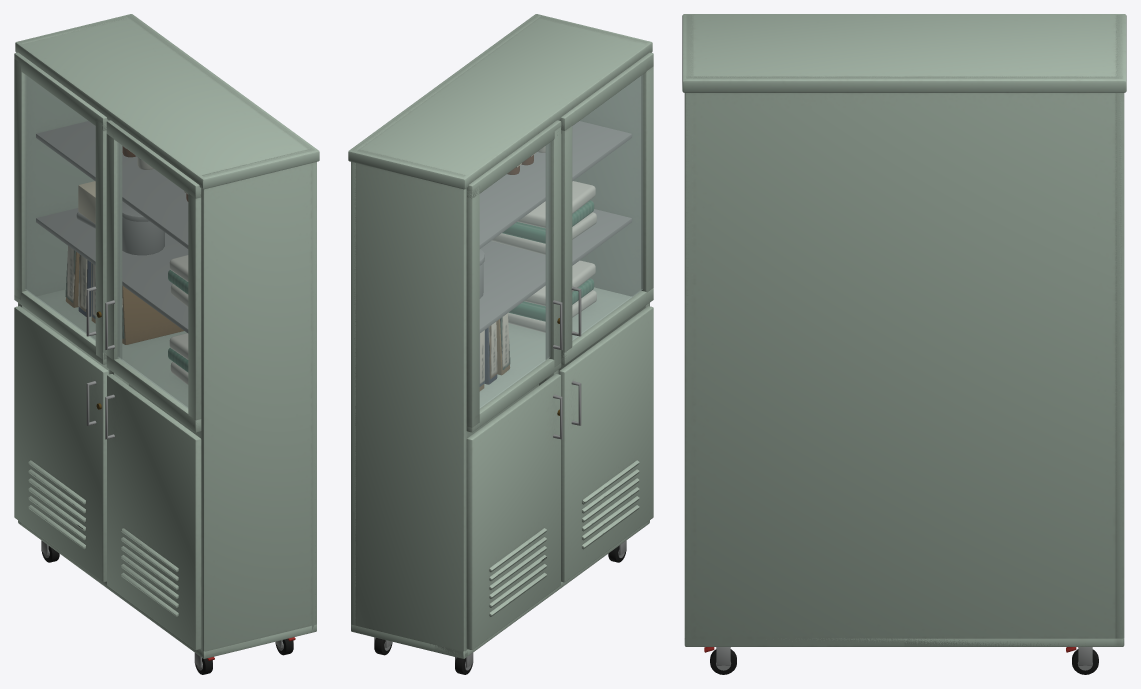
The model's file is CTCC_PROP_MedicalCabinet.fbx.
The picture shows the model from 3 angles, left to right: view 1: azimuth 30°, elevation 25°; view 2: azimuth 150°, elevation 25°; view 3: azimuth 270°, elevation 25°; orthographic projection. The views are drawn at different scales.
Parts seen in each view (by area): view 1: CTCC_PROP_MedicalCabinet_LOD0; view 2: CTCC_PROP_MedicalCabinet_LOD0; view 3: CTCC_PROP_MedicalCabinet_LOD0.
Boxes of the visible parts, x1=… form: CTCC_PROP_MedicalCabinet_LOD0: x1=14, y1=14, x2=319, y2=674; CTCC_PROP_MedicalCabinet_LOD0: x1=348, y1=14, x2=653, y2=674; CTCC_PROP_MedicalCabinet_LOD0: x1=682, y1=14, x2=1126, y2=674.
Size of what is drawn, in the model's own units: 0.5487 by 2.06 by 1.38.
